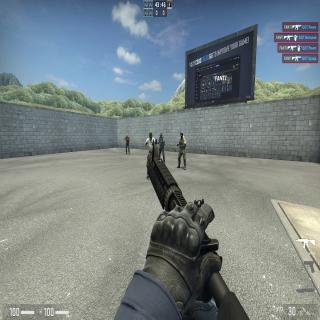CT-Body: (178, 132, 186, 167), (159, 132, 164, 160)
CT-Head: (180, 132, 183, 139), (160, 132, 162, 138)
T-Body: (148, 132, 155, 154), (126, 134, 129, 154)
T-Head: (150, 132, 152, 140), (126, 134, 128, 138)
